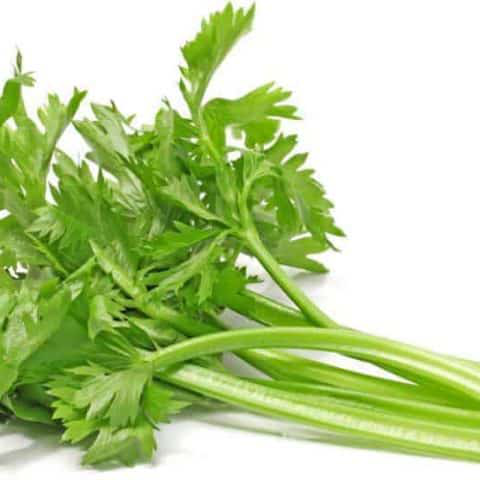Seledri: (40, 72, 450, 458)
